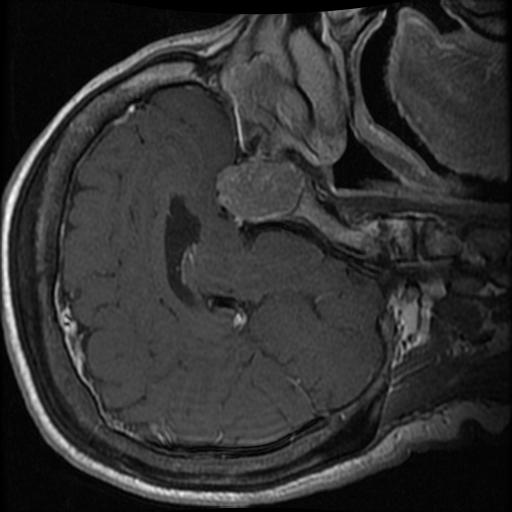pituitary tumour: (217, 158, 301, 221)
